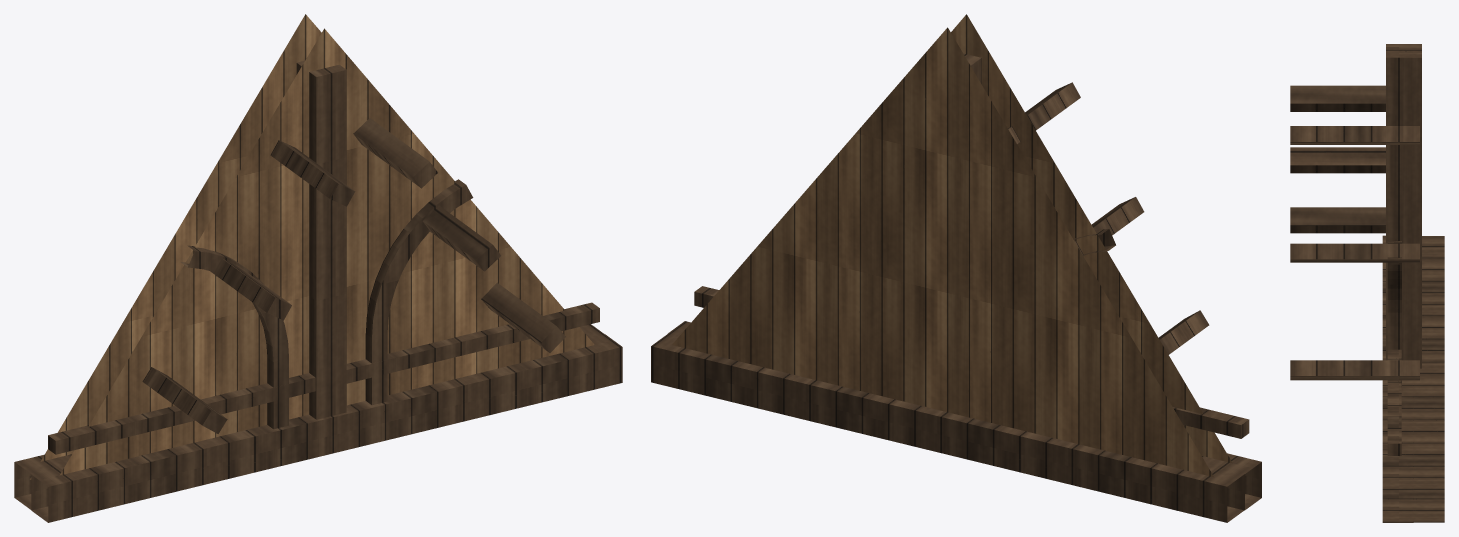
File: Roof_Front_Plank4.gltf
3 views of the same model, side by side, from view 1: azimuth 30°, elevation 25°; view 2: azimuth 150°, elevation 25°; view 3: azimuth 270°, elevation 25° (orthographic). The views are drawn at different scales.
Visible parts, largest first — view 1: Roof_Front_Plank4; view 2: Roof_Front_Plank4; view 3: Roof_Front_Plank4.
Boxes of the visible parts, x1,y1,x2,y2 form: Roof_Front_Plank4: (14, 14, 622, 522); Roof_Front_Plank4: (651, 14, 1261, 522); Roof_Front_Plank4: (1290, 44, 1444, 522).
Bounding box in the file's own units: 4.4 × 3.07 × 1.13.
Materials: 2 (2 with a texture image).
